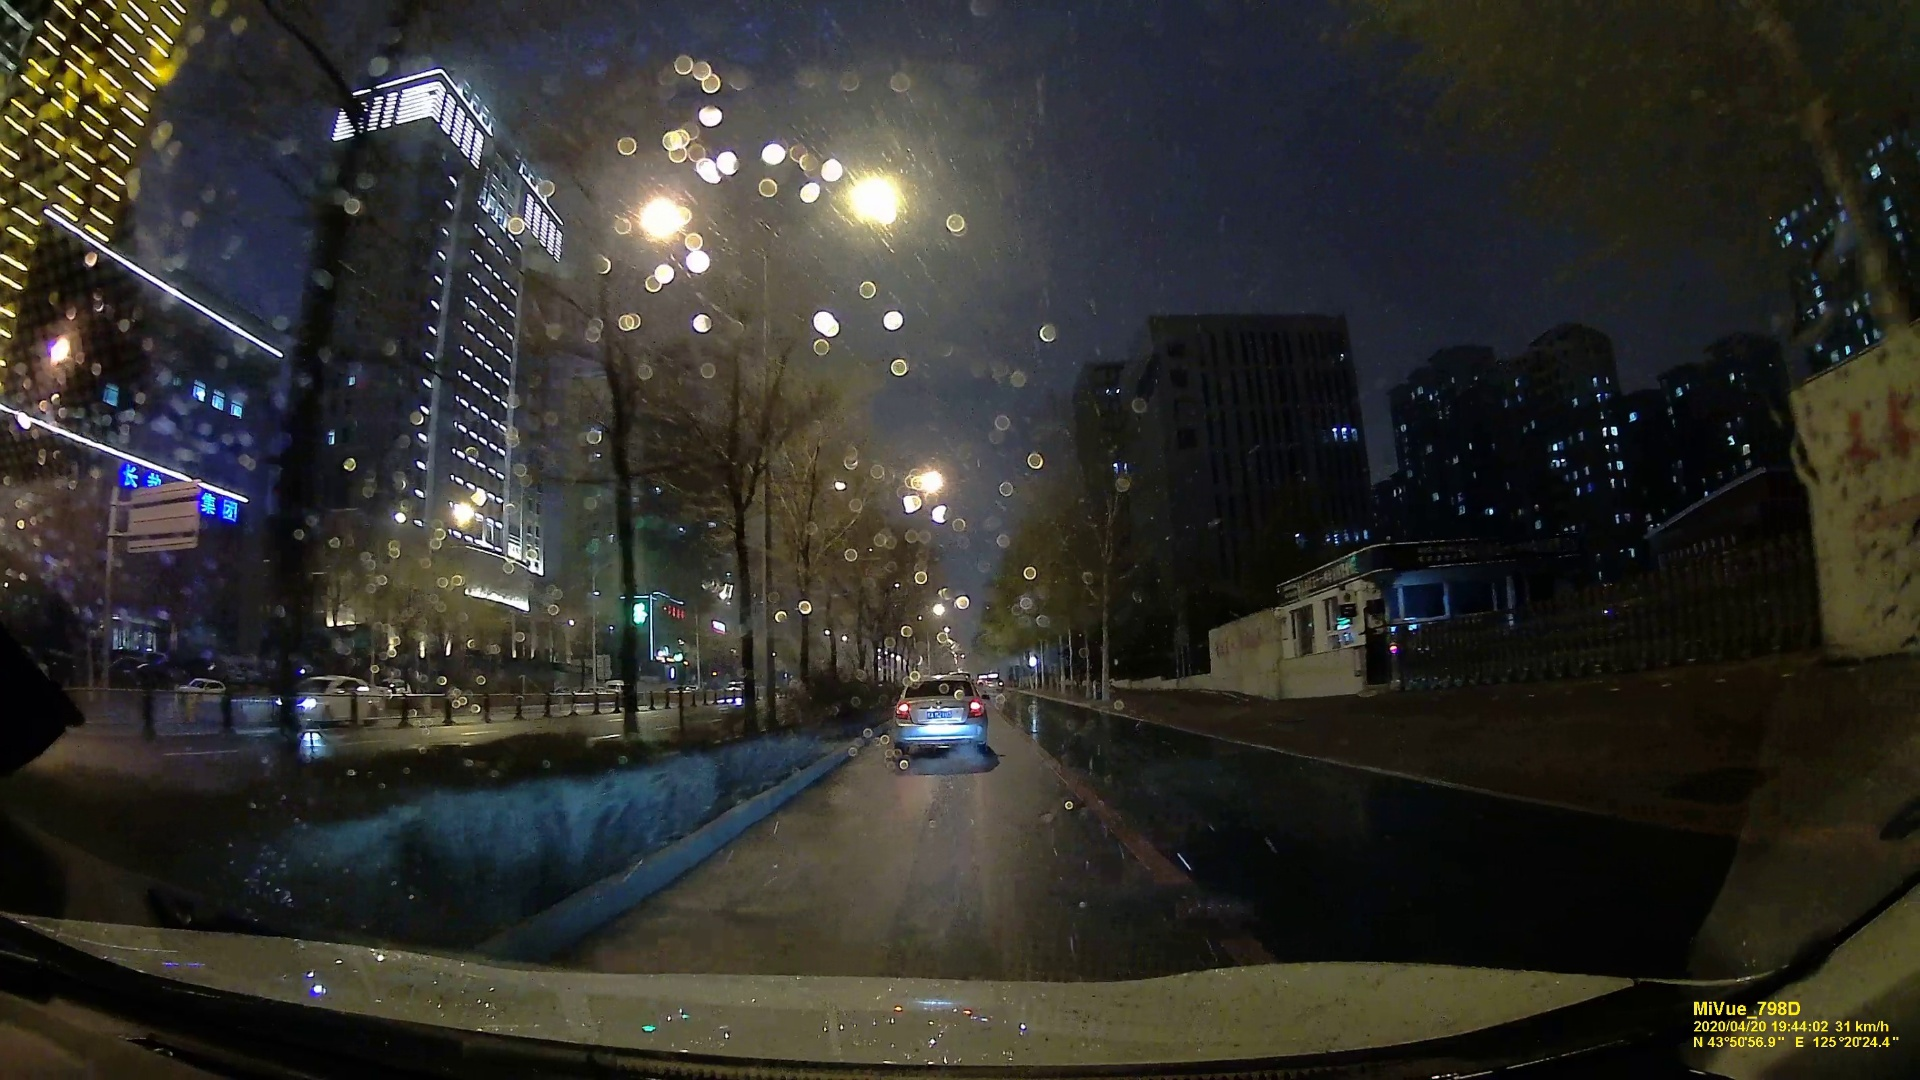vehicle: (891, 673, 992, 760), (273, 676, 386, 727), (167, 676, 220, 699)
